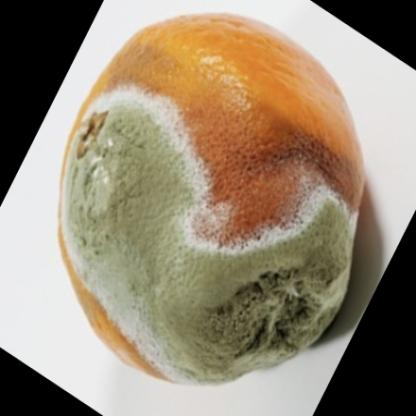rotten: (59, 15, 370, 390)
